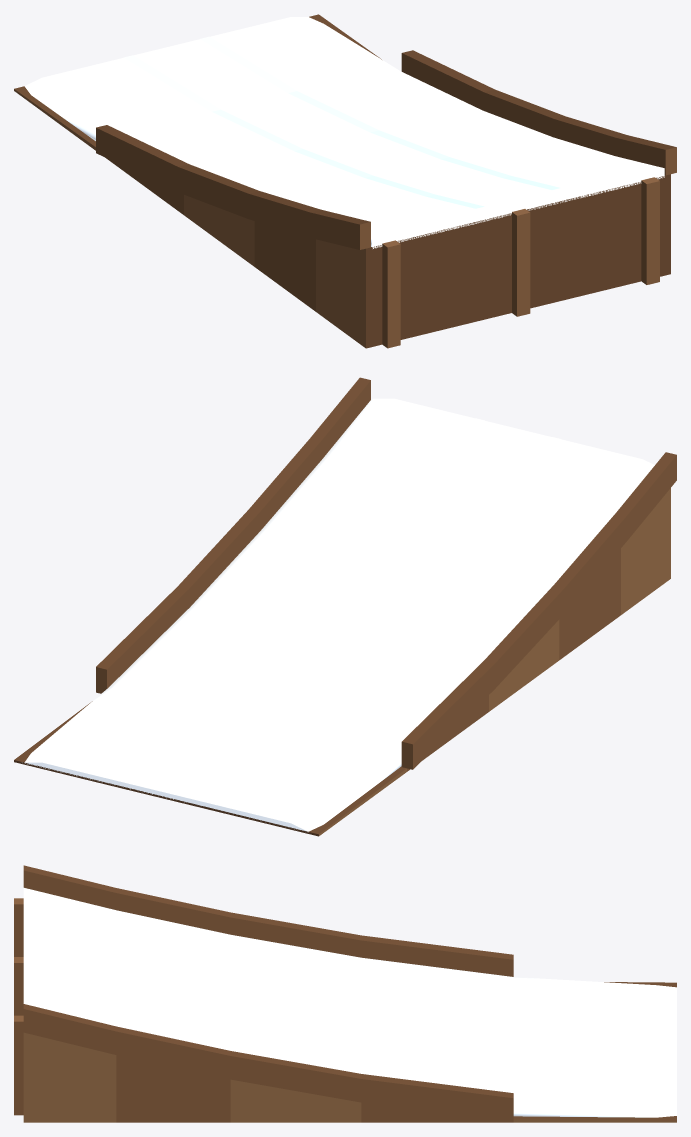
File: ski-ramp.glb
3 renders of one model, top to bottom at view 1: azimuth 30°, elevation 25°; view 2: azimuth 150°, elevation 25°; view 3: azimuth 270°, elevation 25°, orthographic. The views are drawn at different scales.
Parts seen in each view (by area): view 1: ski-ramp; view 2: ski-ramp; view 3: ski-ramp.
Boxes of the visible parts, box(x1,y1,x2,y2) form: ski-ramp: box(14, 14, 676, 348); ski-ramp: box(14, 377, 676, 836); ski-ramp: box(14, 865, 676, 1122).
Bounding box in the file's own units: 6.24 × 2.36 × 12.18.
